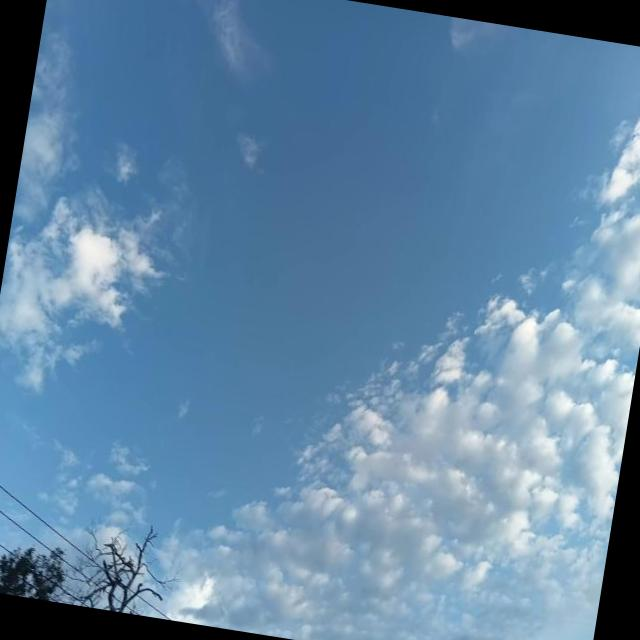altocumulus: (168, 160, 640, 640), (0, 41, 150, 374)
